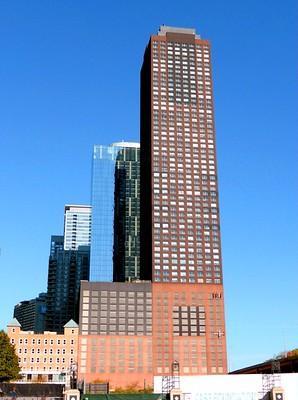building: (140, 20, 228, 374)
